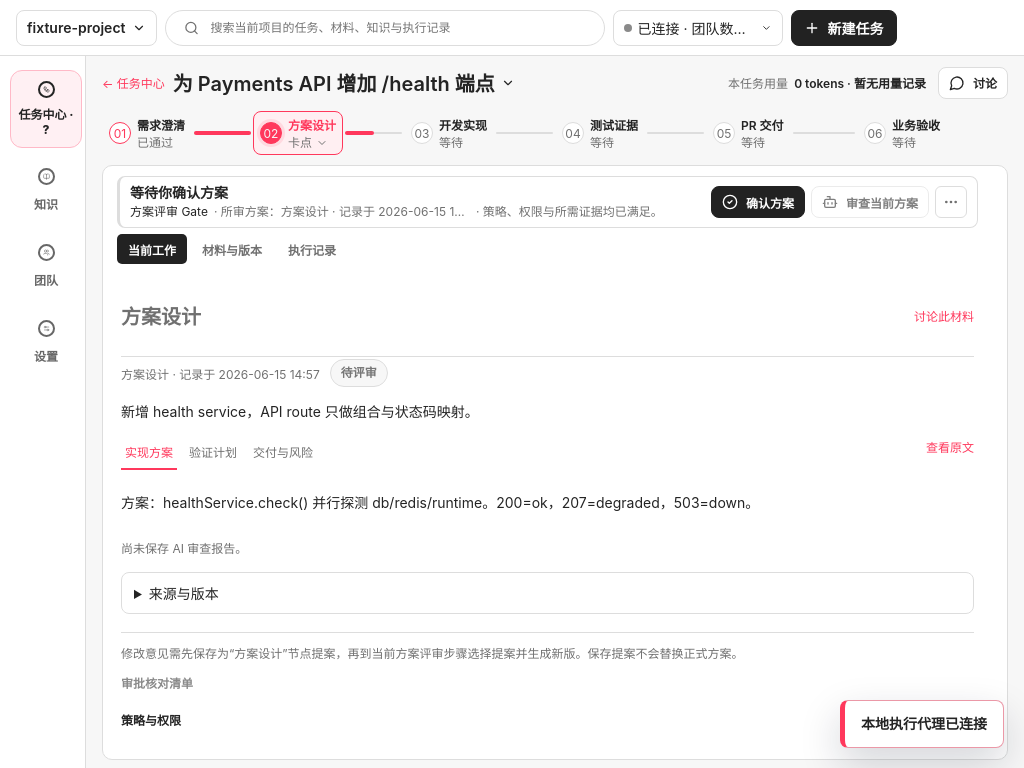
Test: App › shows safe LocalStore profile diagnostics without an absolute path
The width and height of the screenshot is (1024, 768).
Expected: the text "local-development" is not shown
Click the button "设置". click: x=46, y=342
box: x1=10 y1=308 x2=82 y2=376
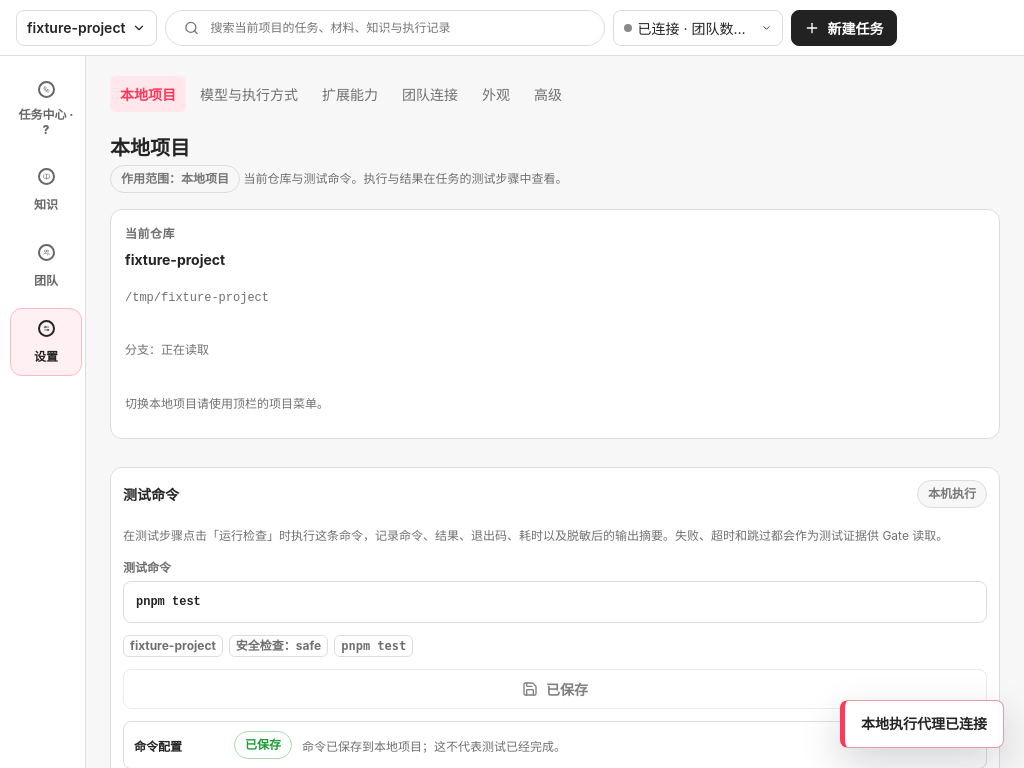
Click the button "高级". click: x=548, y=94
box: x1=524 y1=76 x2=572 y2=112
(page scrolled)
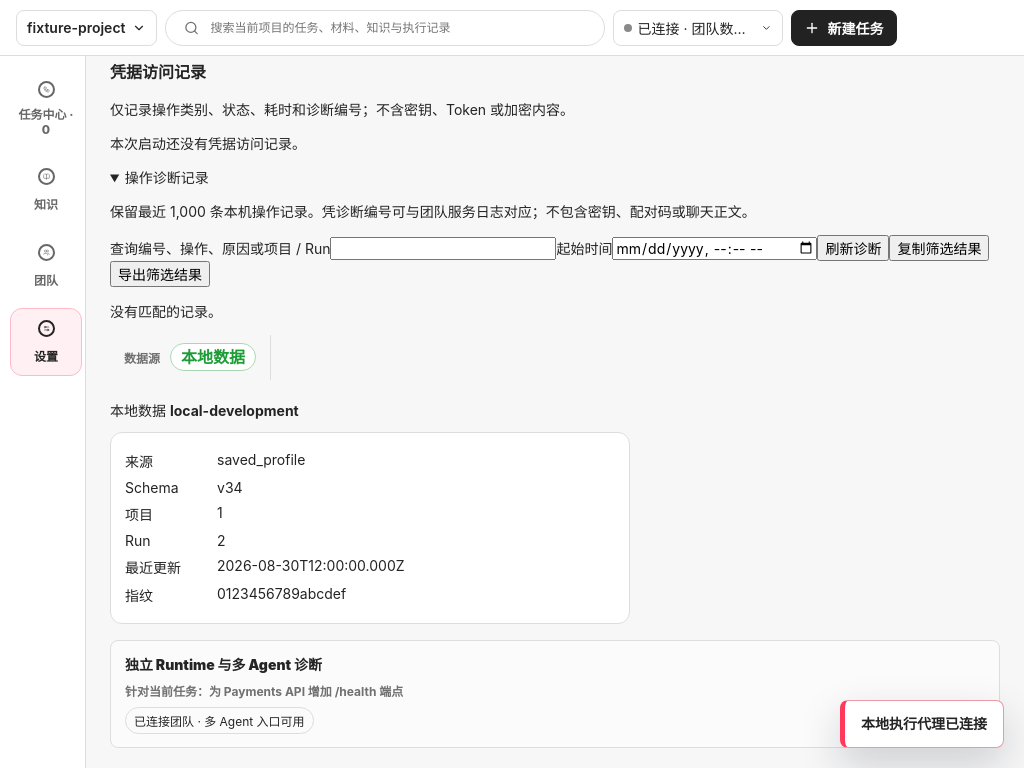
Now the element with test id "data-profile-diagnostics" shows "local-development", box x1=170 y1=402 x2=299 y2=419
Now the element with test id "data-profile-diagnostics" shows "saved_profile", box x1=217 y1=451 x2=305 y2=468
Now the element with test id "data-profile-diagnostics" shows "Schema", box x1=125 y1=479 x2=178 y2=496
